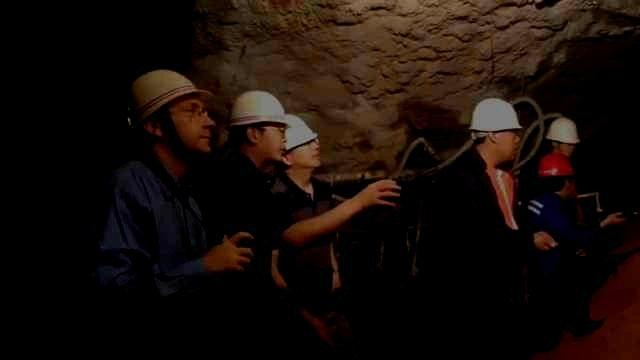helmet: (126, 70, 216, 152), (224, 90, 293, 160), (469, 97, 523, 160), (284, 113, 322, 167), (537, 151, 574, 195), (545, 117, 580, 156)
